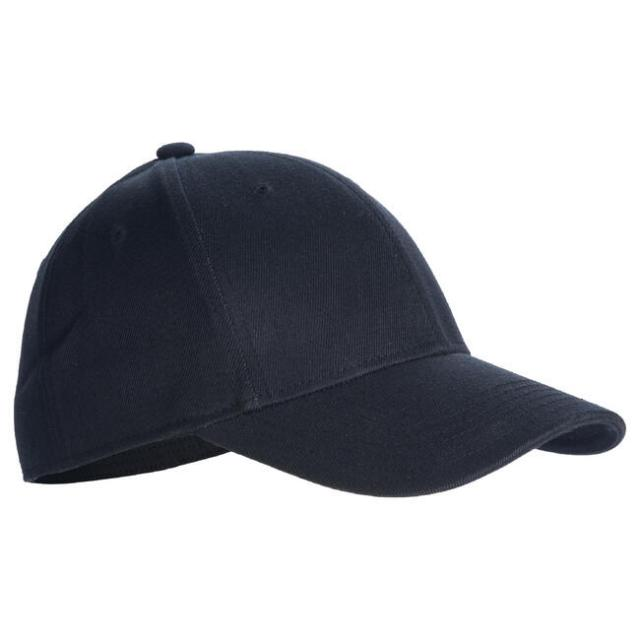Cap: (19, 131, 636, 524)
